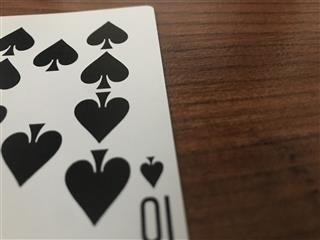TenOfSpades: (1, 3, 190, 240)
